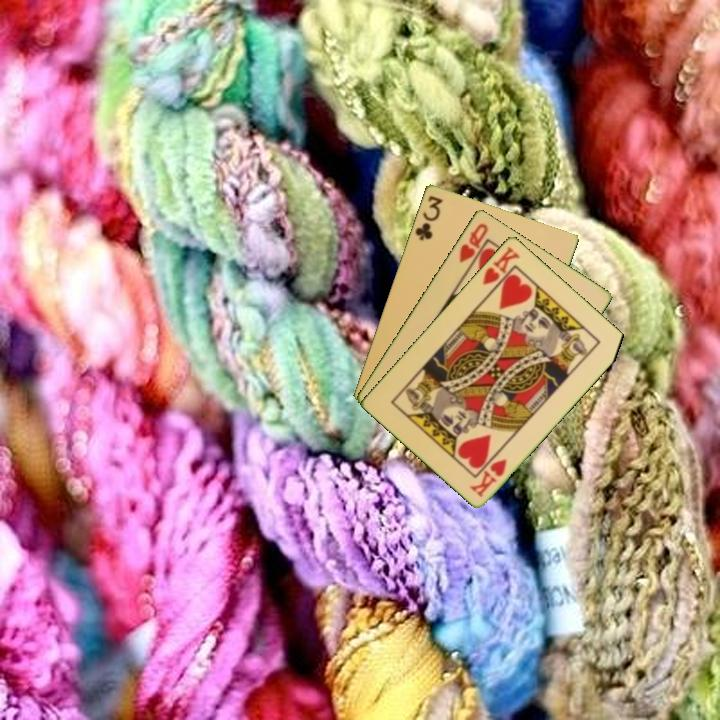3c: (411, 192, 445, 243)
Kh: (479, 242, 523, 296), (466, 455, 510, 500)
Qh: (455, 219, 491, 266)
